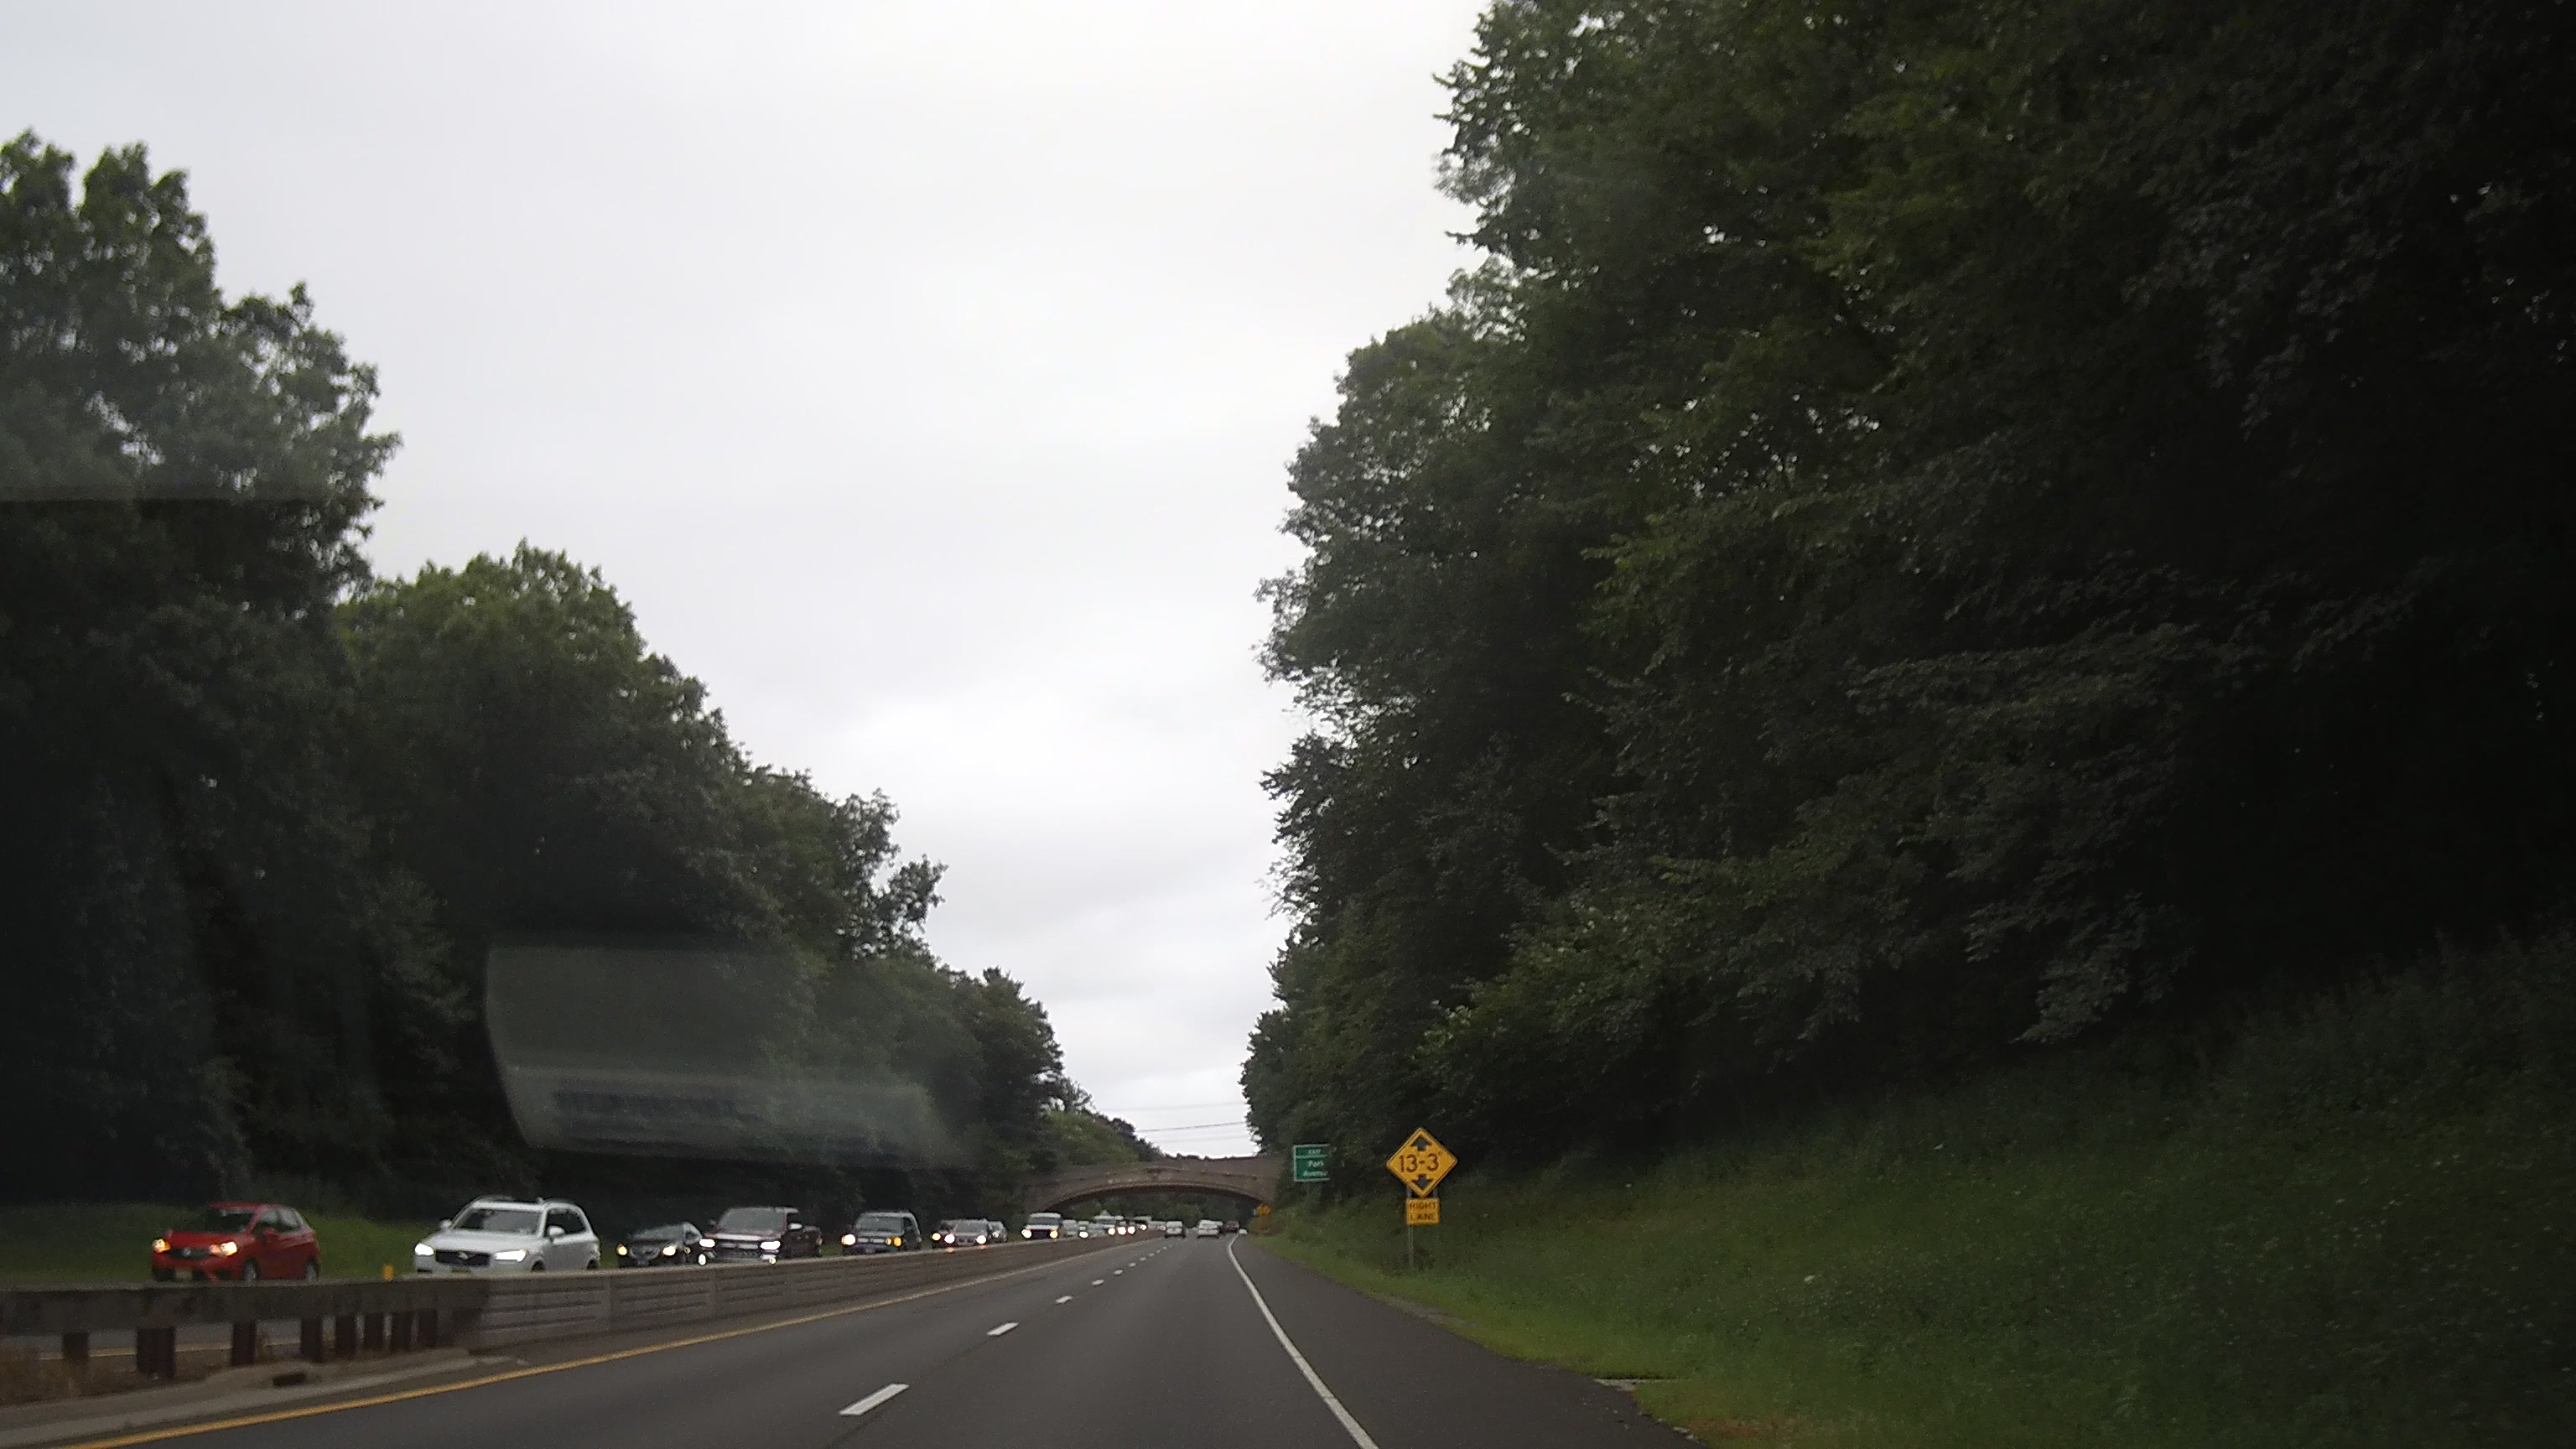low-clearance-sign: (1385, 1127, 1458, 1198)
